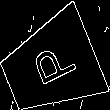P_SW: (23, 39, 78, 94)
